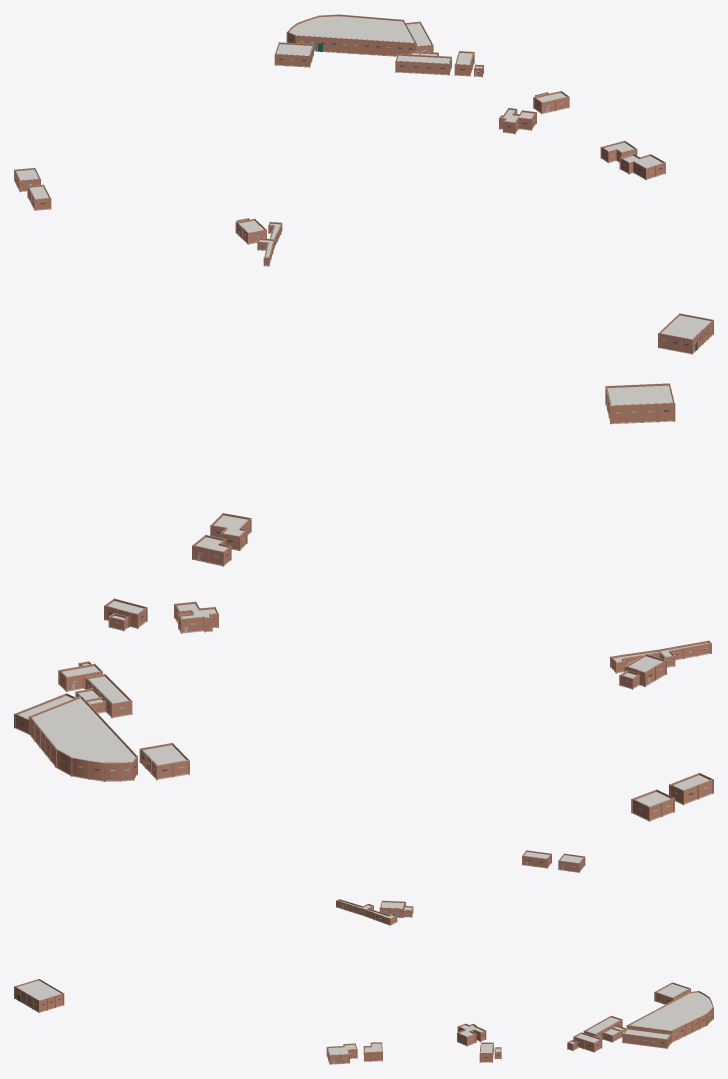
Rendered from Batiments_terracotta.glb.
3 views of the same model, one above another, from view 1: azimuth 30°, elevation 25°; view 2: azimuth 150°, elevation 25°; view 3: azimuth 270°, elevation 25° (orthographic). The views are drawn at different scales.
Visible parts, largest first — view 1: BT_mur, BT_toit, BT_band; view 2: BT_mur, BT_toit, BT_band; view 3: BT_mur, BT_toit, BT_band.
Boxes of the visible parts, bbox=[...] form: BT_mur: bbox=[14, 14, 713, 354]; BT_toit: bbox=[16, 16, 710, 339]; BT_band: bbox=[14, 14, 713, 354]; BT_mur: bbox=[14, 383, 713, 821]; BT_toit: bbox=[18, 385, 709, 806]; BT_band: bbox=[15, 383, 712, 820]; BT_mur: bbox=[14, 850, 713, 1064]; BT_toit: bbox=[17, 852, 712, 1054]; BT_band: bbox=[14, 850, 713, 1064].
Size of the model in its own units: 240 by 6.66 by 347.
Materials: 8 (8 with a texture image).
